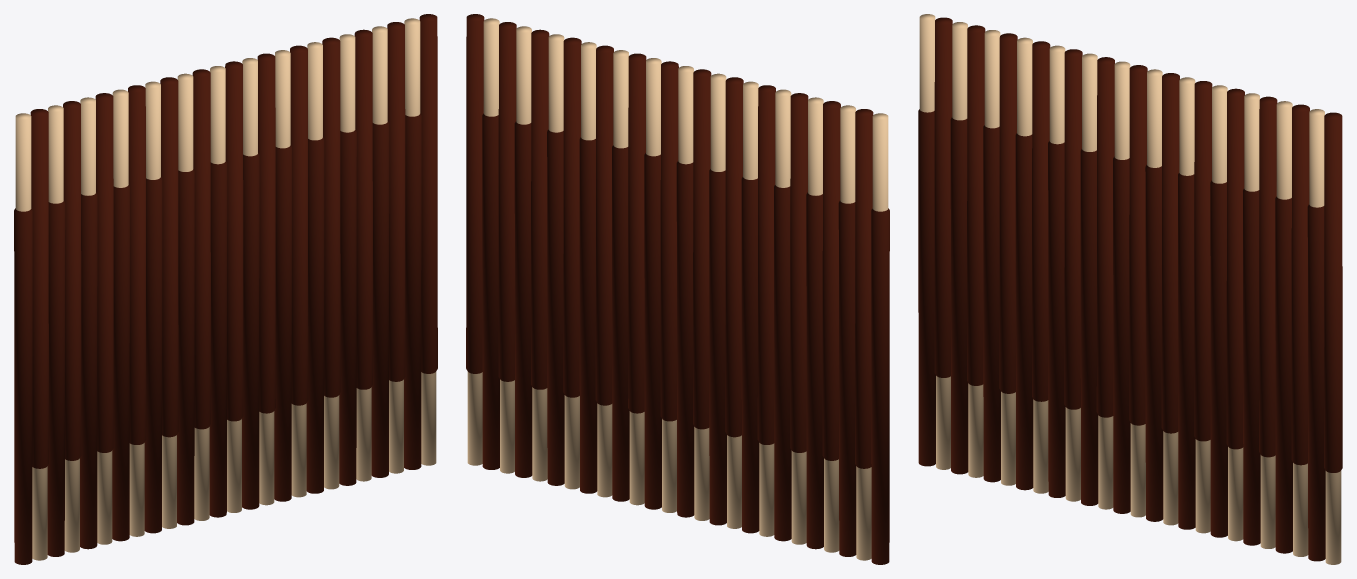
The model's file is pocky_wall.fbx.
3 renders of one model, left to right at view 1: azimuth 30°, elevation 25°; view 2: azimuth 150°, elevation 25°; view 3: azimuth 330°, elevation 25°, orthographic.
Parts seen in each view (by area): view 1: 円柱.003; view 2: 円柱.003; view 3: 円柱.003.
Part boxes in pixels (<box>): 円柱.003: <box>14,14,437,564</box>; 円柱.003: <box>466,14,889,564</box>; 円柱.003: <box>918,14,1342,564</box>.
Bounding box in the file's own units: 44.77 × 45.14 × 1.72.
